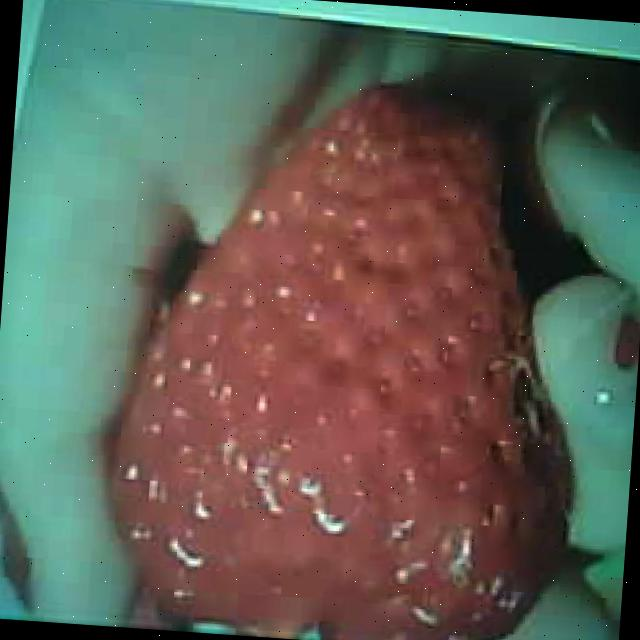strawberry: (101, 74, 597, 640)
